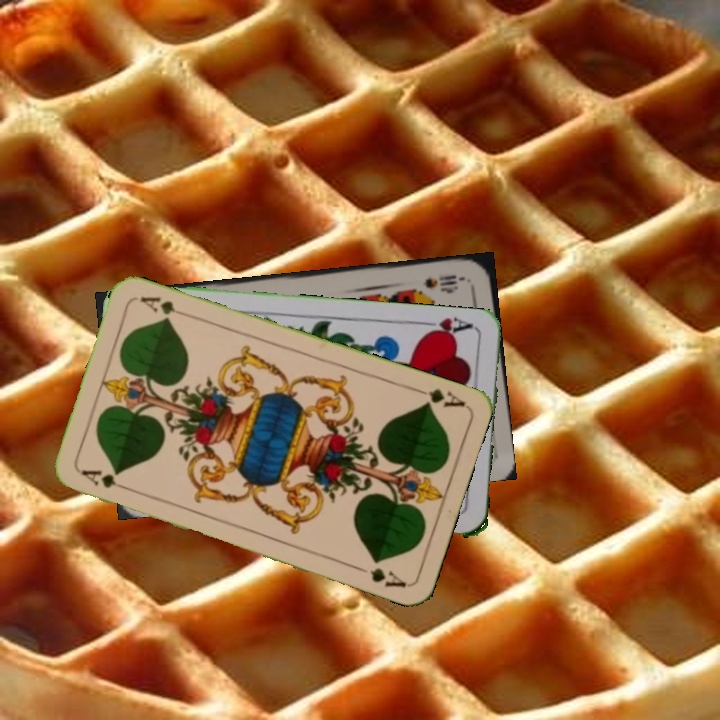GA: (77, 466, 134, 494), (410, 383, 468, 410)
HA: (417, 313, 476, 341)
S10: (419, 270, 468, 291)
